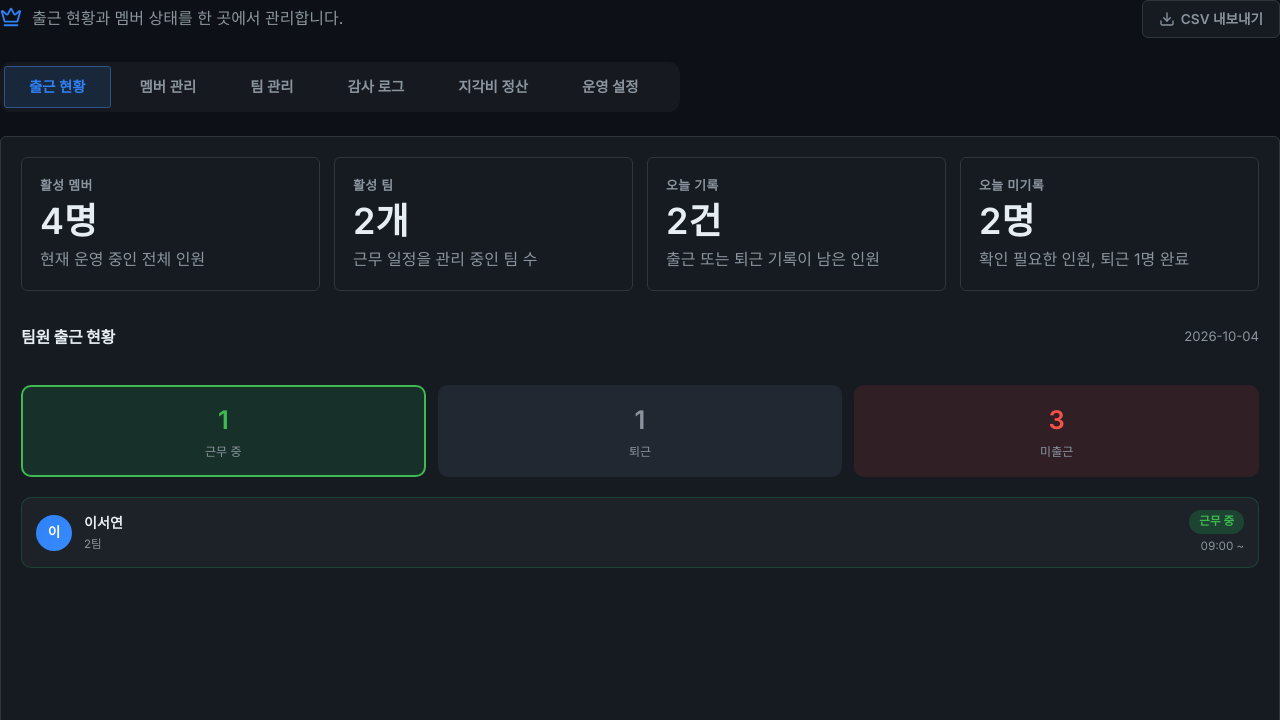
Scenario: Admin 페이지 › 관리자는 멤버 관리 메뉴에서 임시 비밀번호를 발급할 수 있다
The width and height of the screenshot is (1280, 720).
Step 1. Click the button "멤버 관리" → (168, 87), box [115,66,221,108]
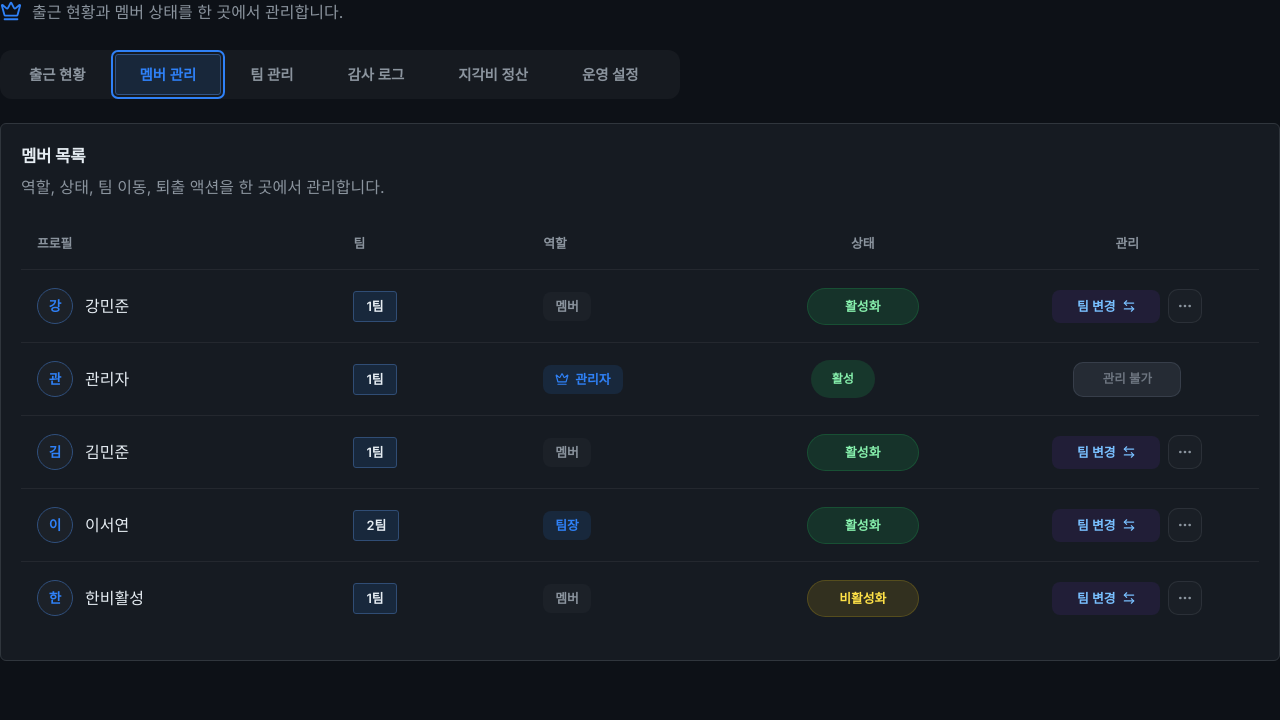
Now the text "강민준" is shown, box [85,296,129,316]
Step 2. Click the button named "관리 메뉴 열기" in the row of "강민준" → (1185, 306), box [1168,289,1202,323]
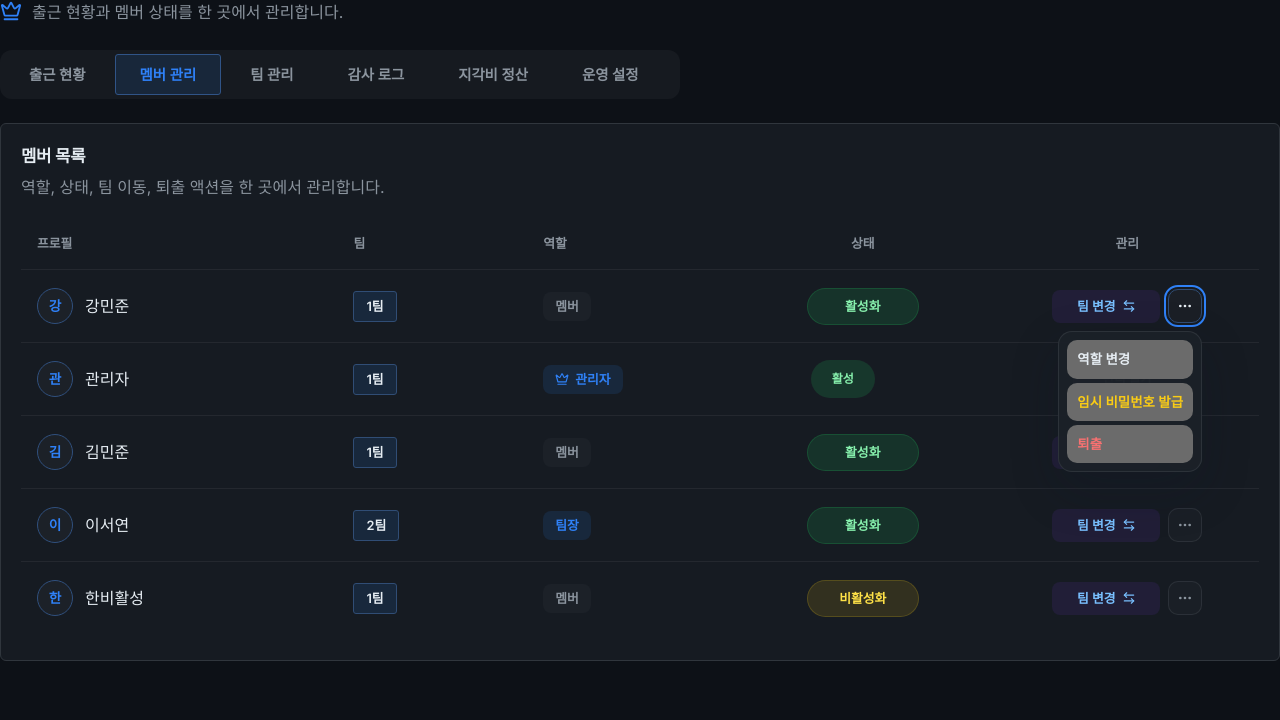
Step 3. Click the menu item "임시 비밀번호 발급" → (1130, 402), box [1067,382,1193,421]
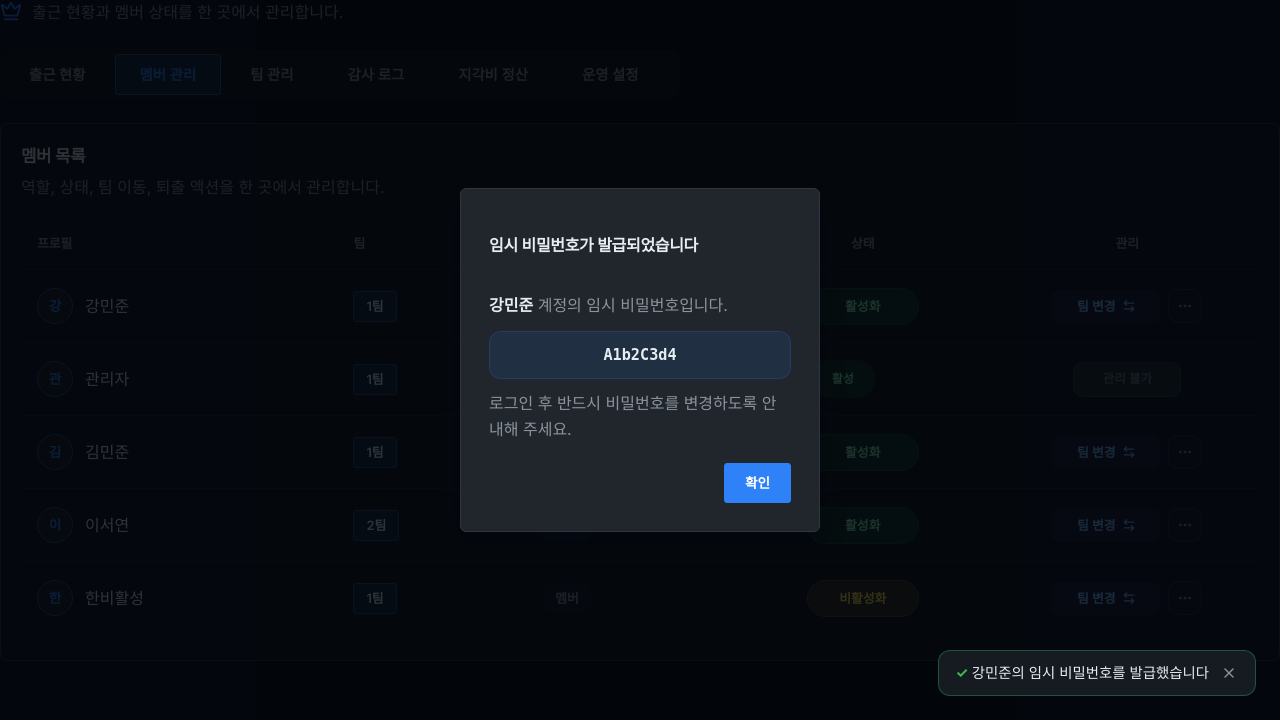
Now the heading "임시 비밀번호가 발급되었습니다" is shown, box [489,235,698,255]
Now the text "A1b2C3d4" is shown, box [489,331,791,379]
